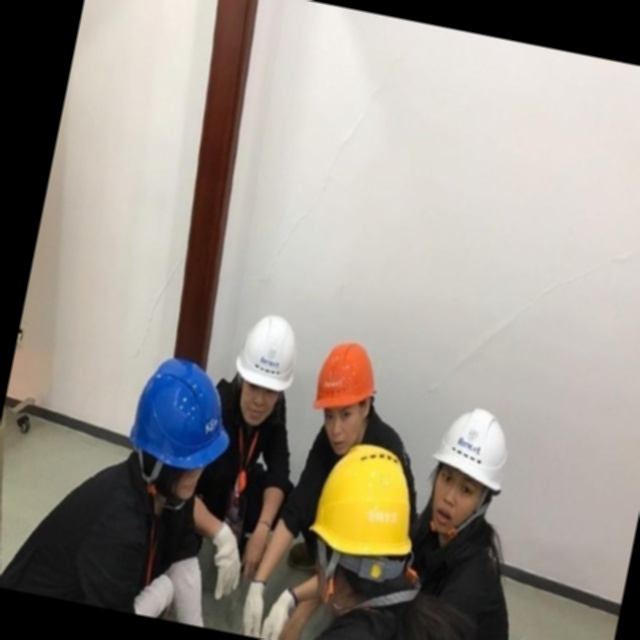Con_Casco: (232, 307, 307, 420)
